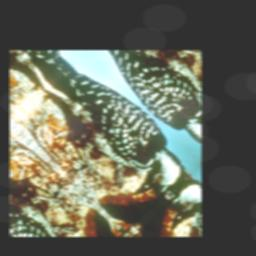Woodpecker: (14, 51, 200, 232)
